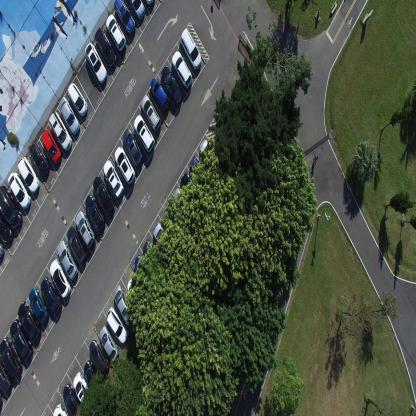car: (93, 26, 118, 70), (84, 40, 107, 85), (0, 185, 23, 229), (8, 317, 32, 359), (48, 109, 72, 150), (16, 298, 39, 340), (160, 64, 183, 105), (180, 28, 202, 70), (7, 169, 31, 207), (56, 237, 77, 280), (92, 173, 114, 214), (58, 94, 80, 135), (132, 112, 154, 152), (48, 257, 70, 297), (39, 274, 61, 314), (16, 154, 39, 192), (171, 50, 193, 89), (105, 306, 128, 343), (113, 0, 136, 37), (113, 143, 134, 183), (0, 336, 21, 376), (113, 284, 133, 326), (105, 13, 126, 53), (140, 93, 162, 131), (72, 371, 94, 409), (40, 126, 62, 163), (103, 158, 123, 198), (66, 223, 86, 262), (67, 81, 88, 118), (122, 127, 142, 165), (84, 192, 104, 230), (27, 285, 47, 323), (74, 208, 94, 245), (98, 324, 118, 361), (88, 339, 109, 374), (189, 152, 211, 185), (63, 382, 85, 415), (29, 140, 48, 176), (180, 170, 202, 201), (149, 76, 169, 110), (199, 139, 220, 168), (153, 219, 171, 252), (83, 360, 101, 392), (172, 186, 191, 216), (133, 252, 152, 282), (127, 275, 146, 305), (142, 237, 160, 267), (126, 0, 144, 22), (0, 358, 11, 392), (0, 216, 14, 242), (52, 403, 68, 415), (144, 0, 156, 12), (0, 242, 5, 262)
